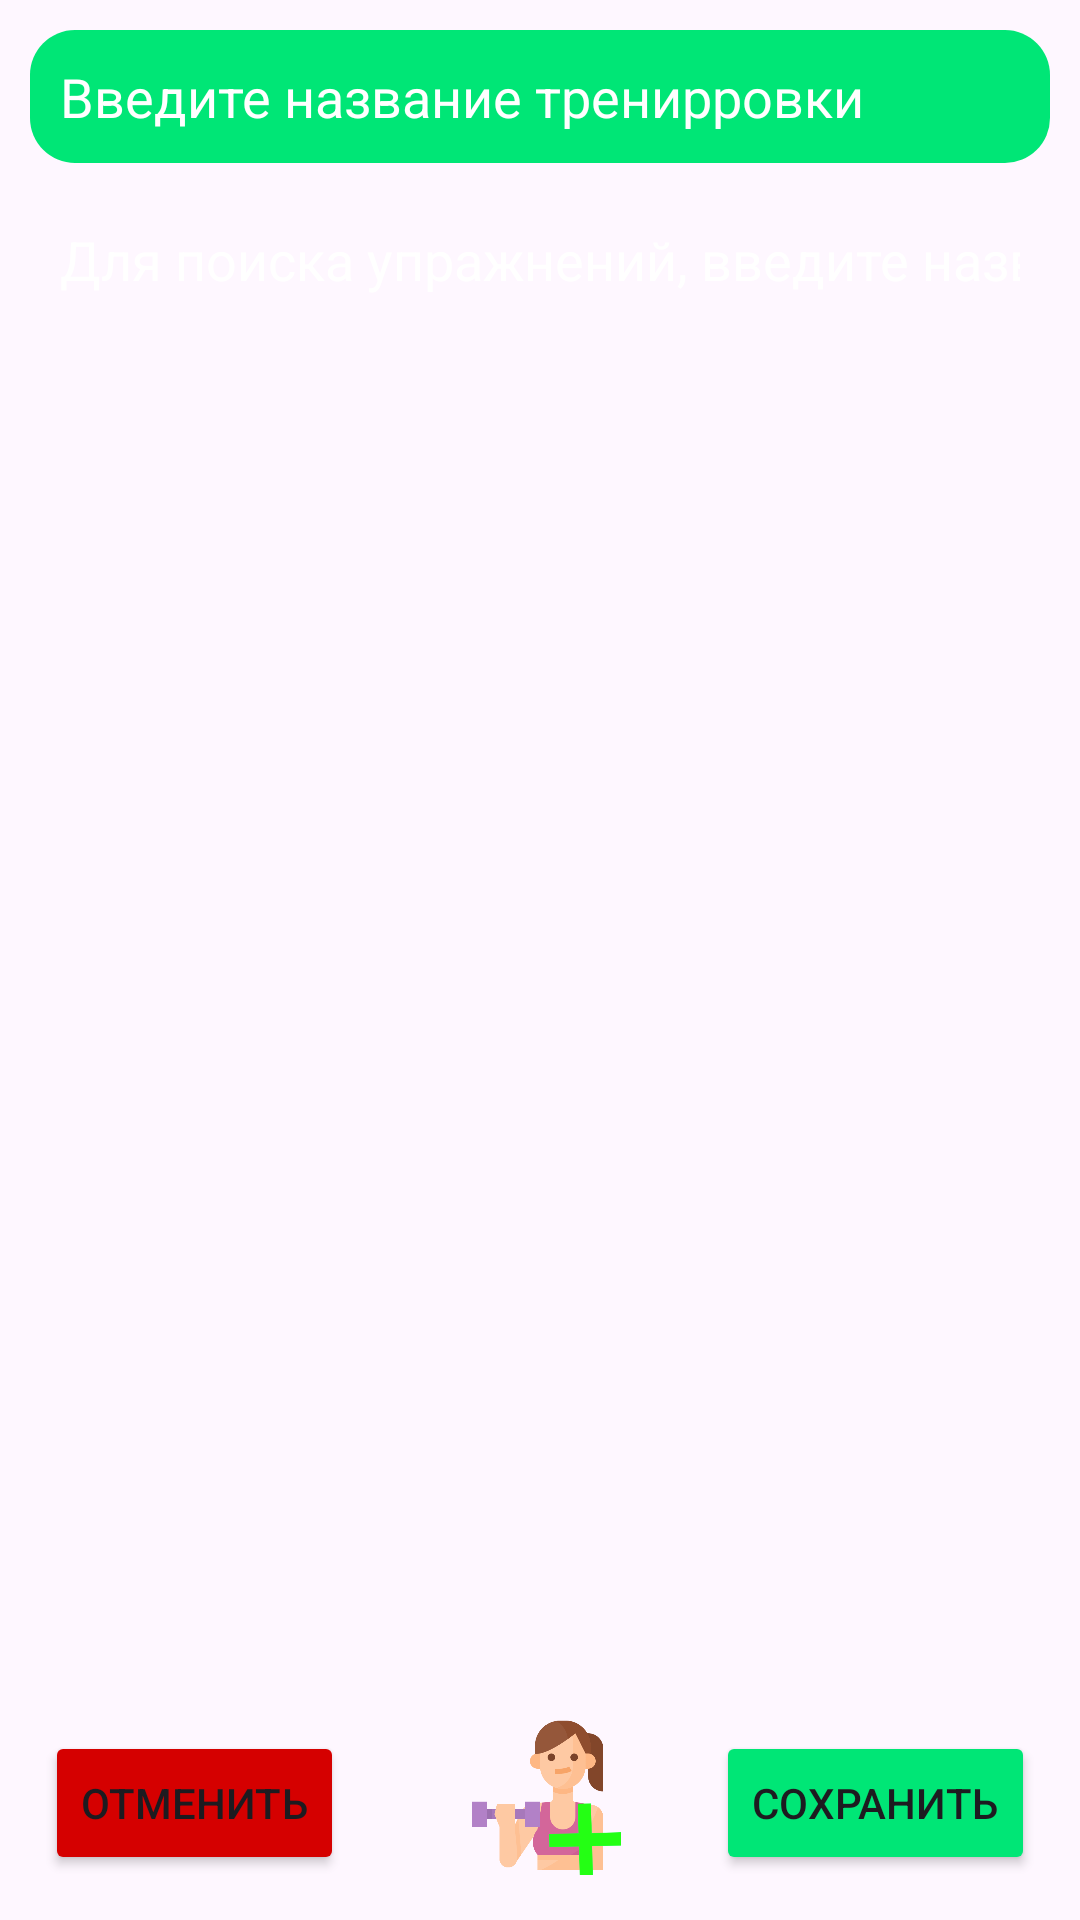

Icons on this 1080 x 1920 Android screen, each with its box as (x1, y1, x2, y2):
create exercise: (472, 1720, 621, 1875)
